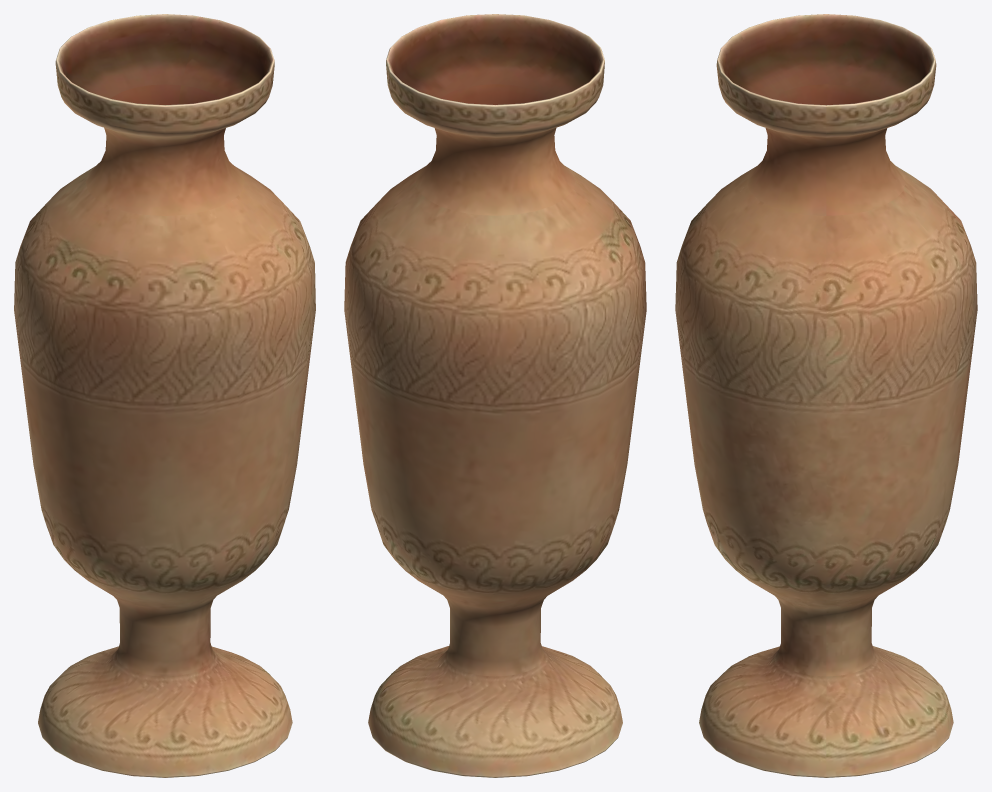
The model's file is brass_vase_03.glb.
The picture shows the model from 3 angles, left to right: view 1: azimuth 30°, elevation 25°; view 2: azimuth 150°, elevation 25°; view 3: azimuth 270°, elevation 25°; orthographic projection.
Parts seen in each view (by area): view 1: brass_vase_03; view 2: brass_vase_03; view 3: brass_vase_03.
Boxes of the visible parts, x1,y1,x2,y2 form: brass_vase_03: [14, 14, 315, 777]; brass_vase_03: [344, 14, 646, 777]; brass_vase_03: [675, 14, 977, 777].
Size of the model in its own units: 0.0825 by 0.2004 by 0.0825.
Materials: 1 (1 with a texture image).
